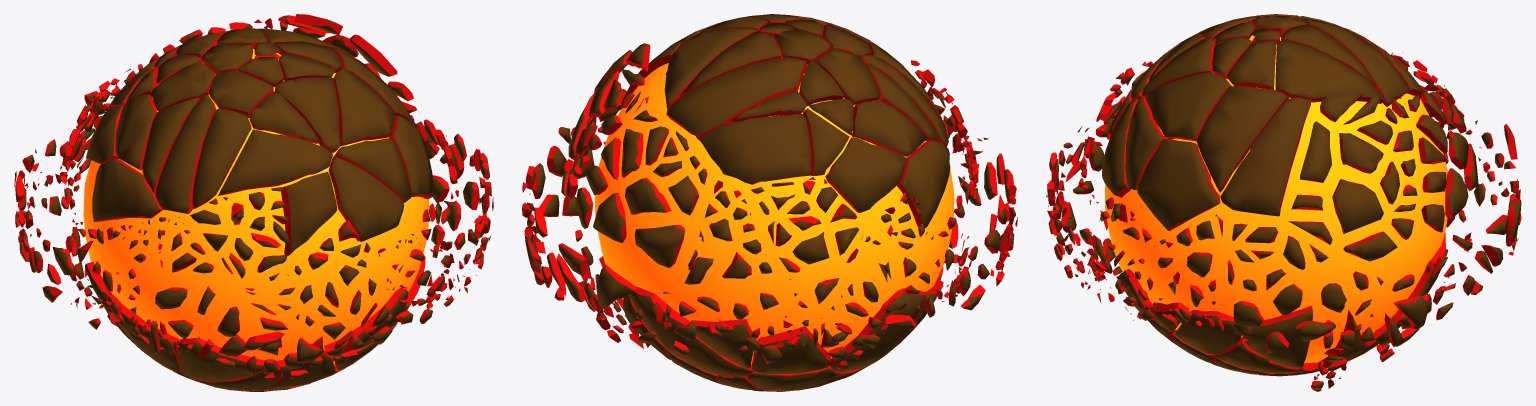
Rendered from planet_o.glb.
3 renders of one model, left to right at view 1: azimuth 30°, elevation 25°; view 2: azimuth 150°, elevation 25°; view 3: azimuth 270°, elevation 25°, orthographic. The views are drawn at different scales.
Parts seen in each view (by area): view 1: COMBINE LP_1_0, COMBINE LP_LAM_0, COMBINE LP_2_0; view 2: COMBINE LP_1_0, COMBINE LP_LAM_0, COMBINE LP_2_0; view 3: COMBINE LP_1_0, COMBINE LP_LAM_0, COMBINE LP_2_0.
Part boxes in pixels (bbox=[...]): COMBINE LP_1_0: bbox=[14, 15, 491, 391]; COMBINE LP_LAM_0: bbox=[83, 49, 429, 364]; COMBINE LP_2_0: bbox=[14, 14, 493, 391]; COMBINE LP_1_0: bbox=[522, 14, 1016, 391]; COMBINE LP_LAM_0: bbox=[594, 57, 954, 364]; COMBINE LP_2_0: bbox=[522, 14, 1017, 391]; COMBINE LP_1_0: bbox=[1046, 14, 1521, 391]; COMBINE LP_LAM_0: bbox=[1105, 35, 1447, 363]; COMBINE LP_2_0: bbox=[1046, 15, 1521, 390].
Size of the model in its own units: 261 by 199 by 261.
